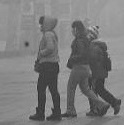person: (66, 21, 106, 117), (30, 12, 62, 121), (85, 24, 119, 116)
